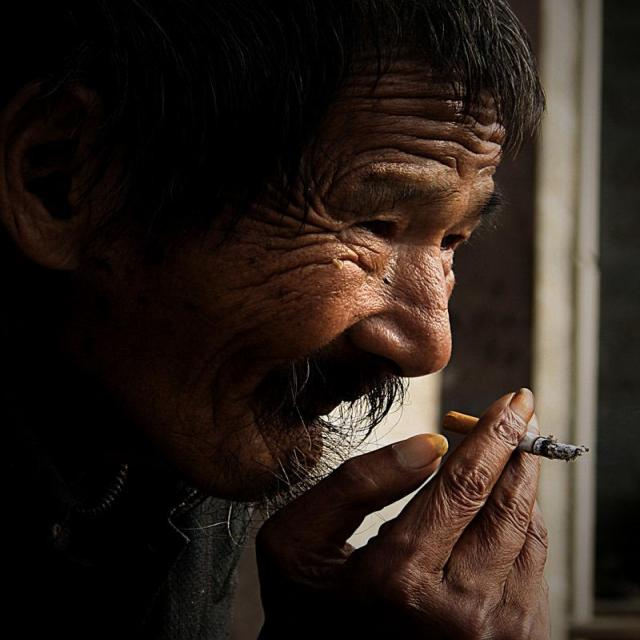Сигарета: (442, 408, 580, 458)
Тело: (6, 0, 588, 640)
